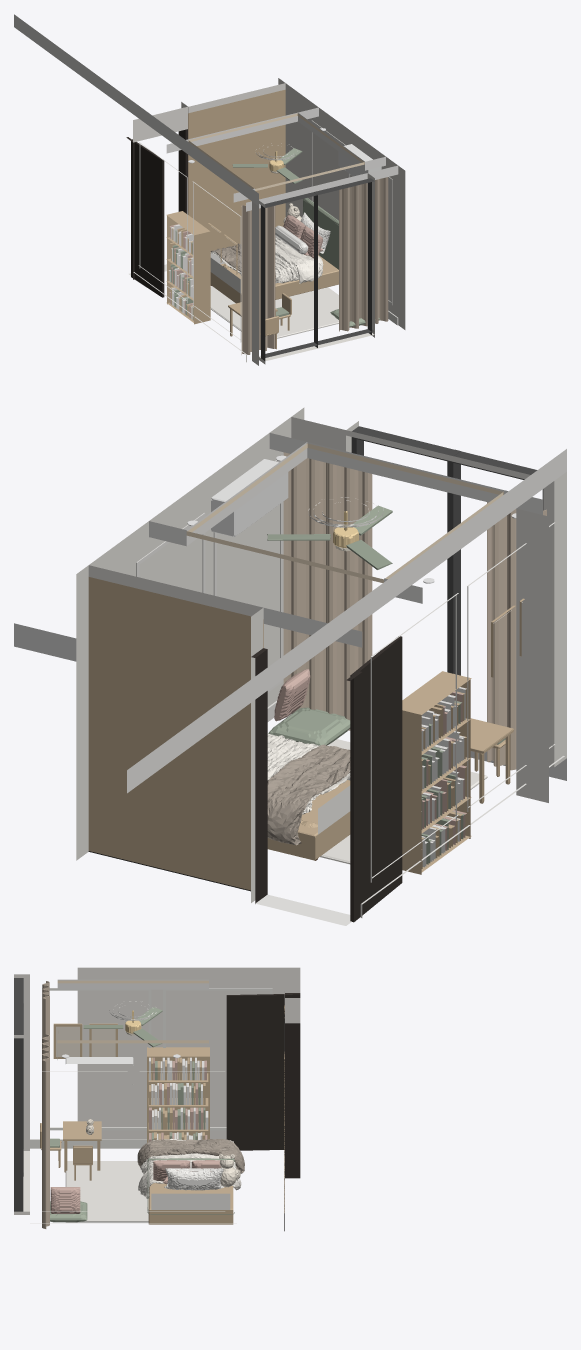
File: ROOM3.glb
3 views of the same model, one above another, from view 1: azimuth 30°, elevation 25°; view 2: azimuth 150°, elevation 25°; view 3: azimuth 270°, elevation 25° (orthographic). The views are drawn at different scales.
Parts seen in each view (by area): view 1: WEB_ROOM3; view 2: WEB_ROOM3; view 3: WEB_ROOM3.
Part boxes in pixels (x1,y1,x2,y2): WEB_ROOM3: (14,14,405,365); WEB_ROOM3: (14,407,566,925); WEB_ROOM3: (14,967,300,1231).
Size of the model in its own units: 5.34 by 2.91 by 6.95.
